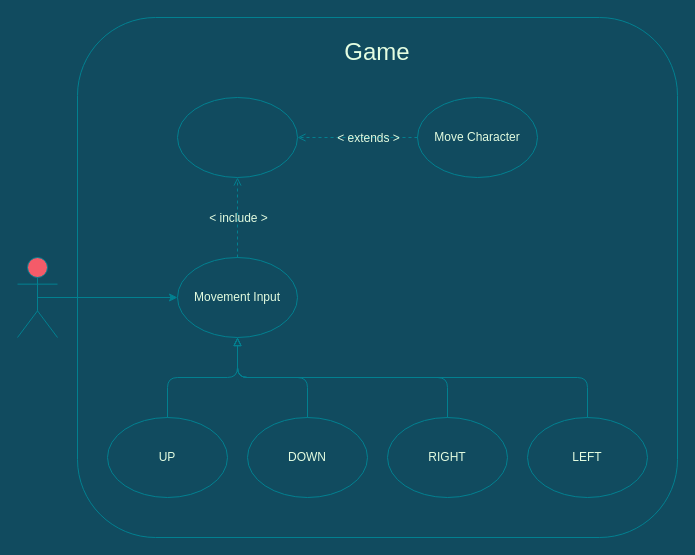
This 695x555 diagram has some shape labels left out. The centre of each missing label's shape, as x and y in pixels:
"Check Collisions" belongs at point (237, 137).
"Player" belongs at point (37, 297).
